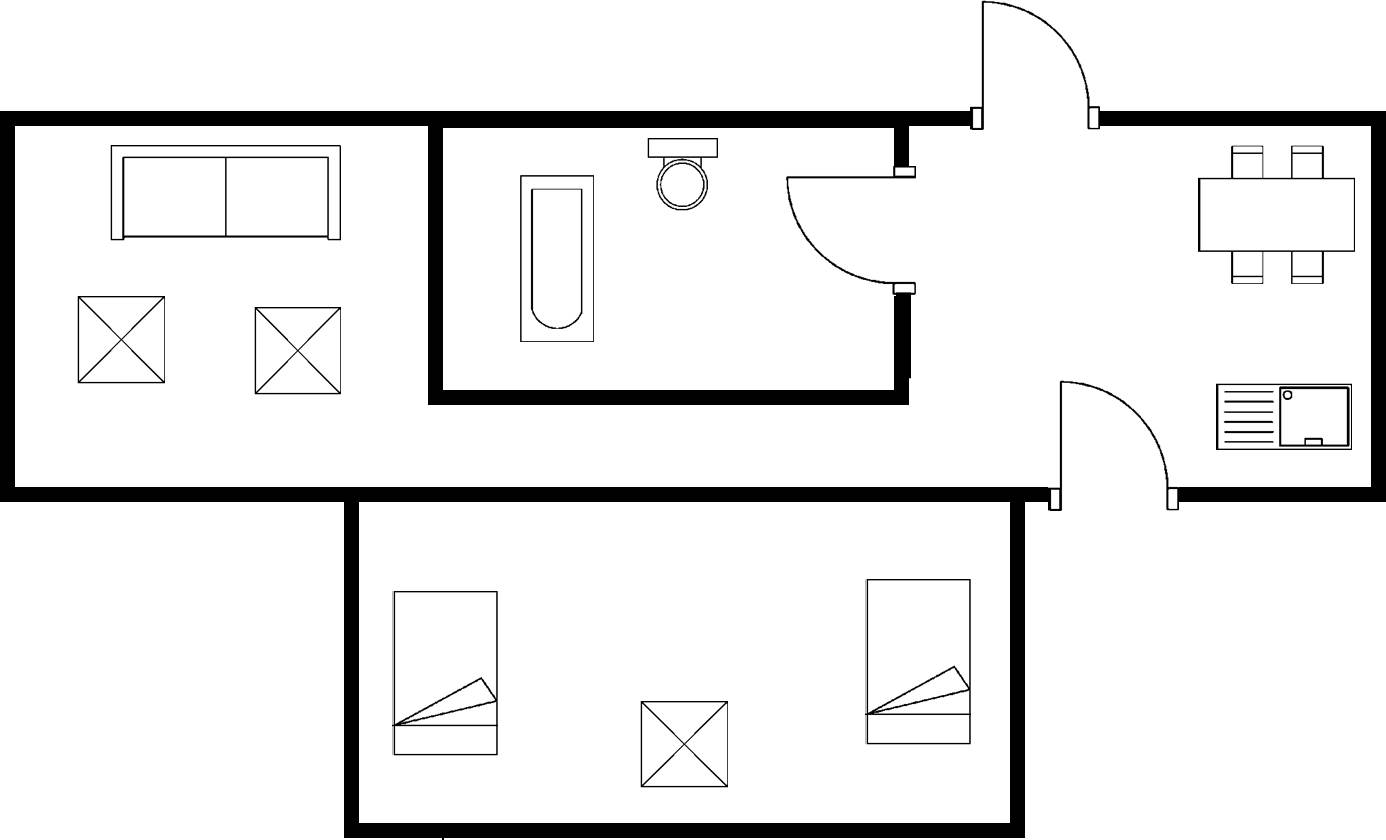bed: (858, 571, 976, 750), (389, 587, 503, 761)
coffee_table: (72, 291, 172, 389), (249, 302, 348, 400), (637, 696, 734, 792)
dining_table: (1192, 139, 1361, 293), (102, 141, 347, 246)
large_sink: (643, 133, 725, 216)
sink: (1209, 377, 1357, 459)
tub: (515, 168, 599, 351)
